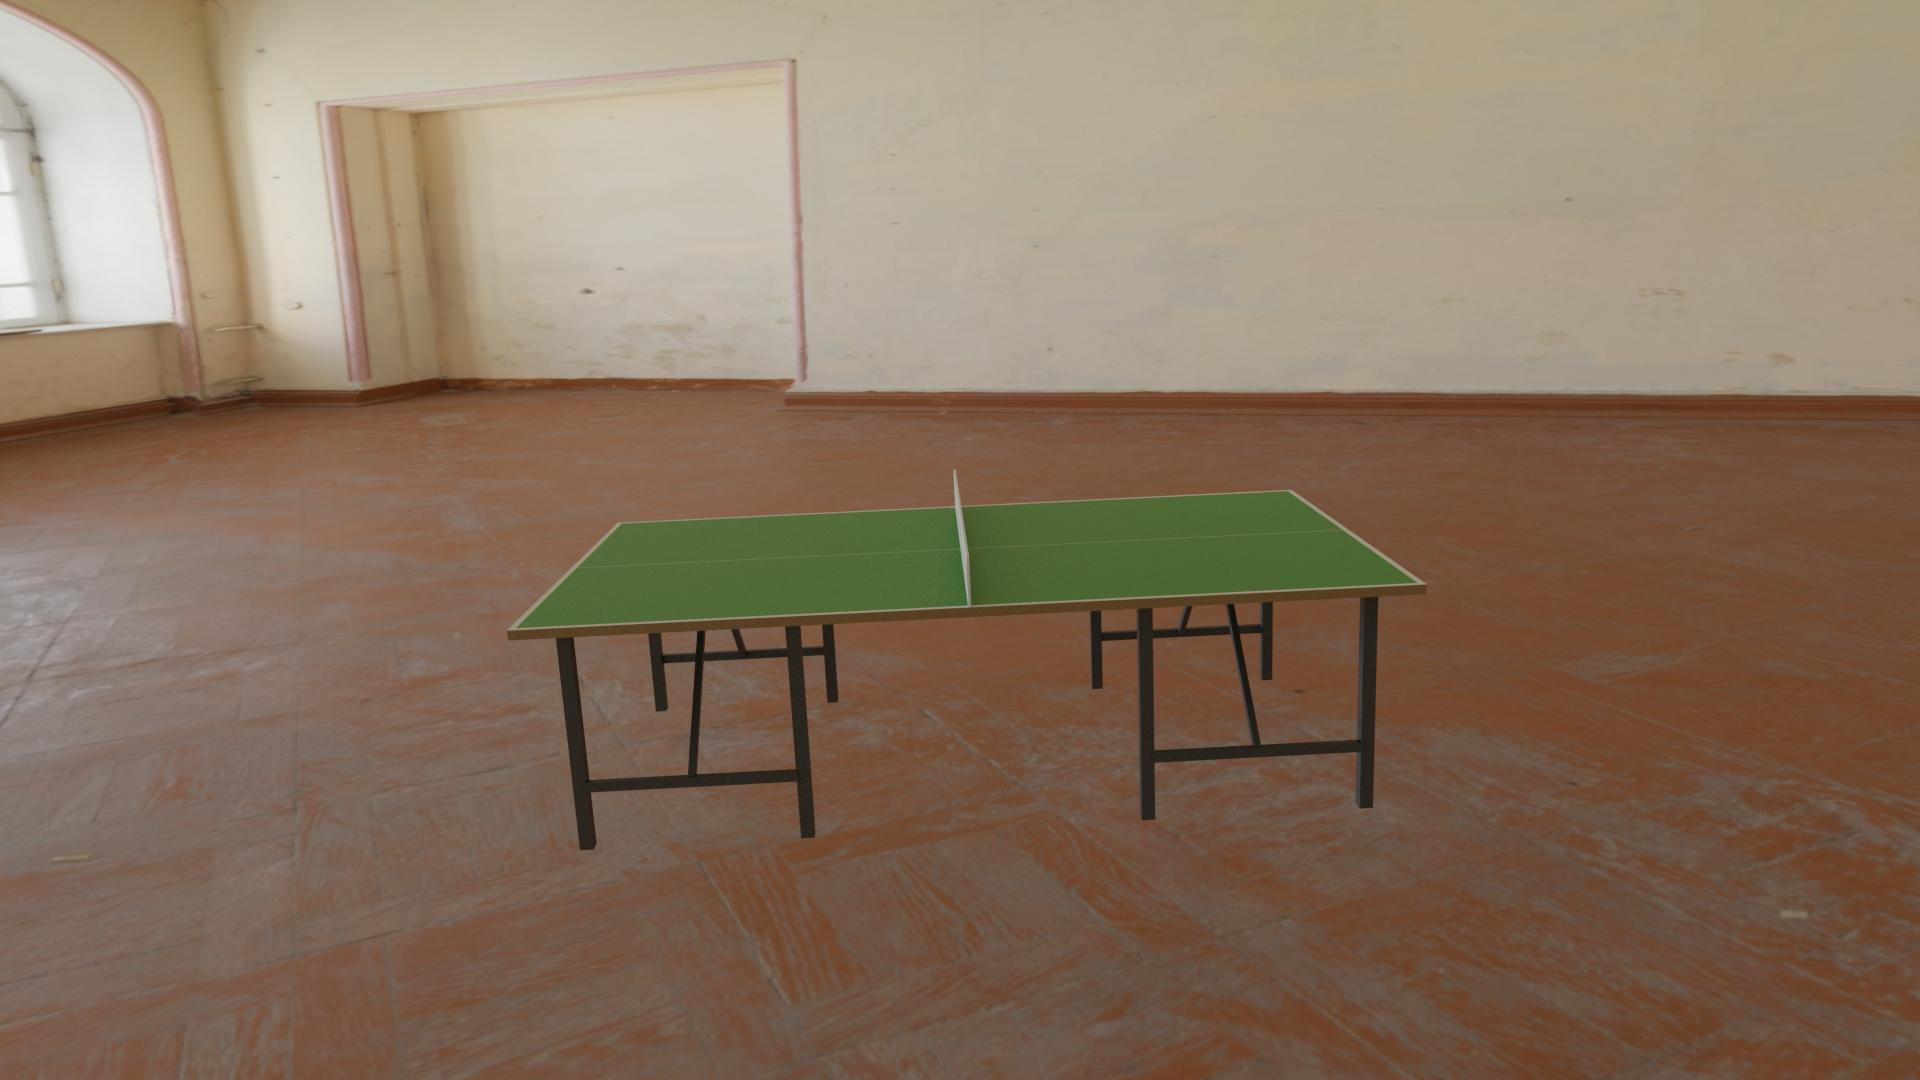table: (516, 491, 1418, 628)
